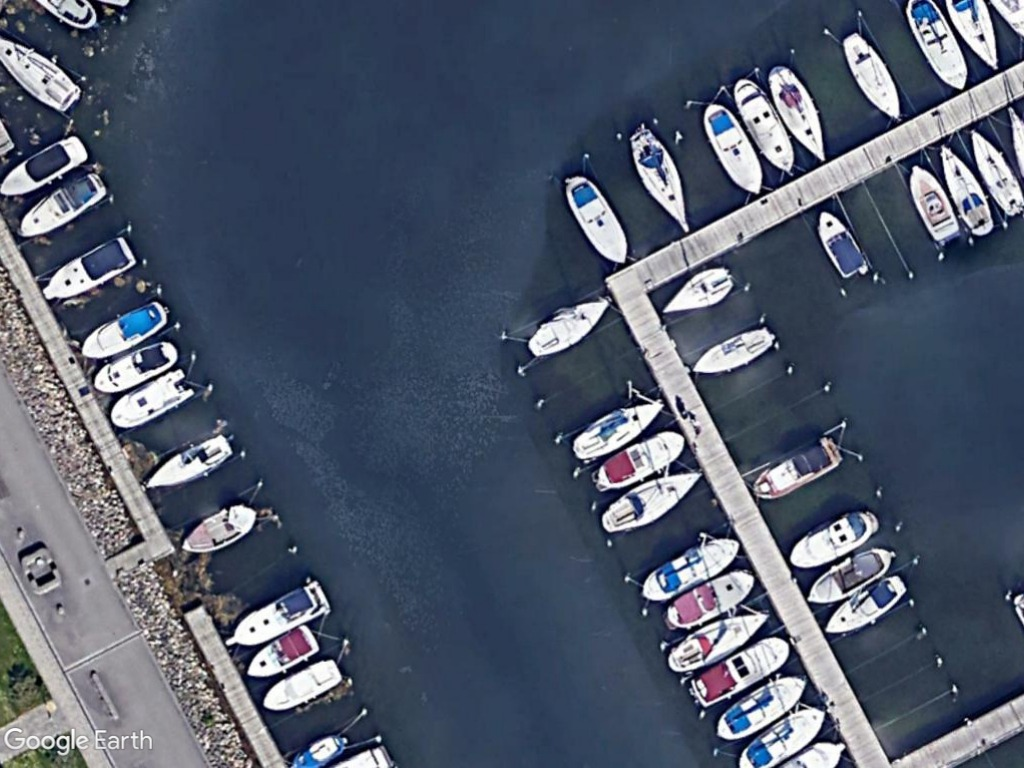boat: (216, 577, 334, 651), (627, 122, 697, 240), (666, 601, 773, 678), (762, 56, 834, 168), (728, 73, 800, 184), (9, 166, 112, 243), (686, 634, 795, 706), (599, 465, 704, 539), (635, 531, 741, 603), (38, 228, 137, 304), (710, 669, 813, 741), (560, 172, 634, 272), (566, 393, 670, 464), (700, 97, 770, 201), (748, 429, 845, 501), (783, 504, 882, 574), (0, 129, 91, 205), (841, 27, 910, 126), (897, 0, 968, 96), (663, 562, 760, 632), (803, 539, 900, 609), (589, 425, 690, 492), (934, 137, 1000, 239), (75, 296, 169, 367), (524, 289, 610, 363), (732, 705, 832, 768), (820, 569, 909, 638), (107, 361, 193, 432), (88, 337, 184, 400), (141, 430, 232, 495), (968, 121, 1024, 222), (686, 322, 779, 378), (259, 654, 344, 714), (655, 262, 738, 322), (241, 620, 322, 681), (177, 500, 261, 557), (813, 205, 873, 284), (908, 163, 962, 248)
